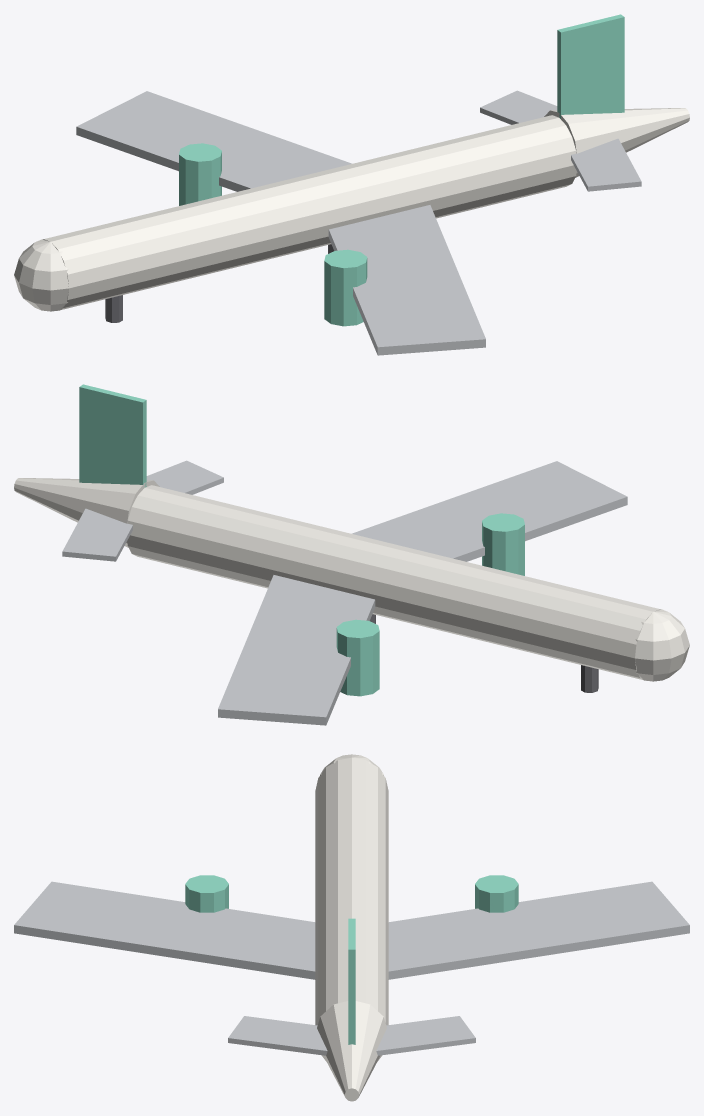
The model's file is euroairport-flugzeug-1.glb.
3 views of the same model, one above another, from view 1: azimuth 30°, elevation 25°; view 2: azimuth 150°, elevation 25°; view 3: azimuth 270°, elevation 25° (orthographic).
Visible parts, largest first — view 1: building; view 2: building; view 3: building.
Boxes of the visible parts, <box> form: building: <box>14,14,689,355</box>; building: <box>14,384,689,725</box>; building: <box>14,754,689,1101</box>.
Size of the model in its own units: 42 by 10.8 by 36.97.
